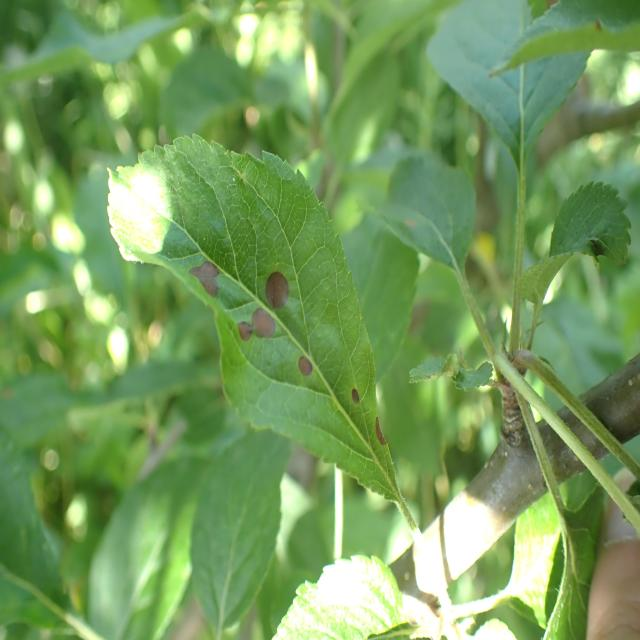Black Rot: (184, 247, 226, 310), (256, 256, 299, 312), (237, 307, 277, 348), (370, 406, 389, 467), (295, 350, 317, 384), (348, 380, 366, 414)
